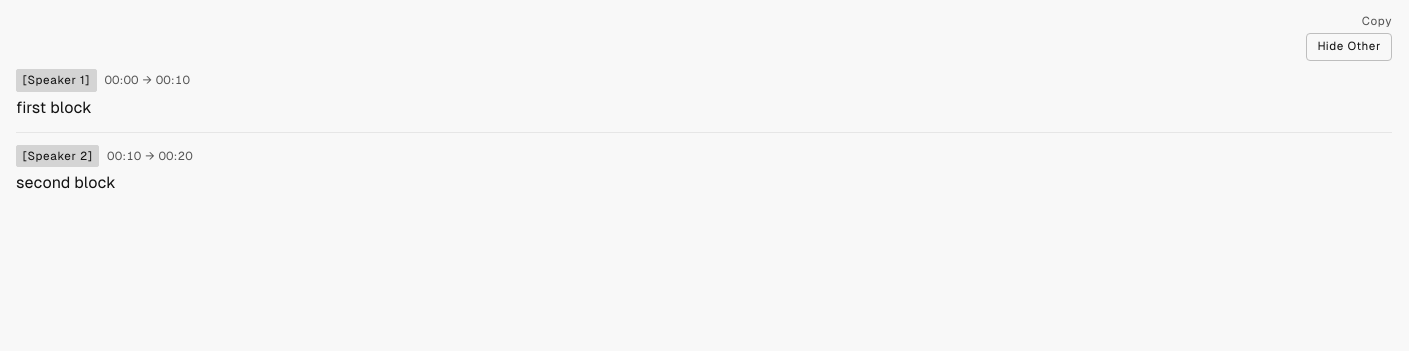
Scenario: TranscriptPanel speaker relabeling › opens a picker with saved names, other block labels, and Other
The width and height of the screenshot is (1409, 351).
Expected: the text "first block" is shown, [16,98,92,117]
Click the button "[Speaker 2]". click: (58, 156)
box: [16,145,99,167]
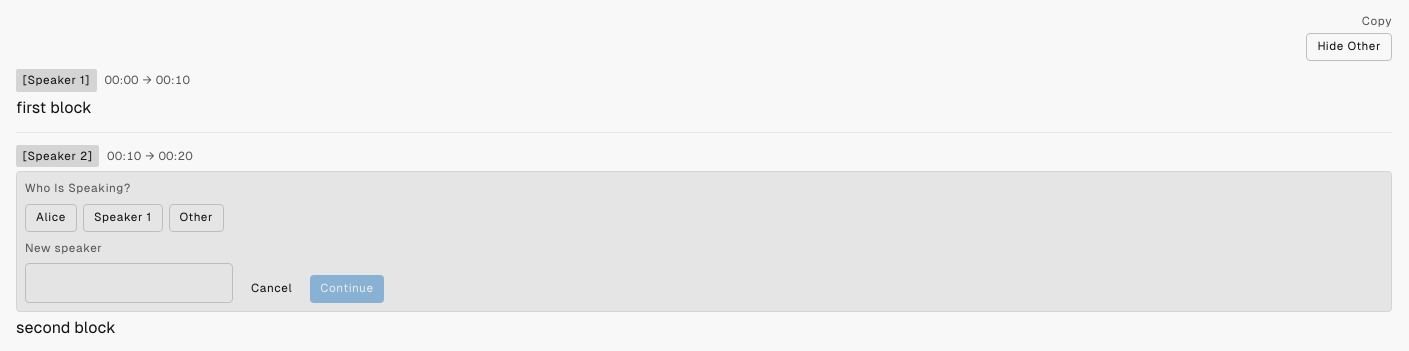
Result: the text "Who is speaking?" is shown at [25,181,131,195]
Result: the button "Alice" is shown at [25,204,77,232]
Result: the button "Speaker 1" is shown at [83,204,163,232]
